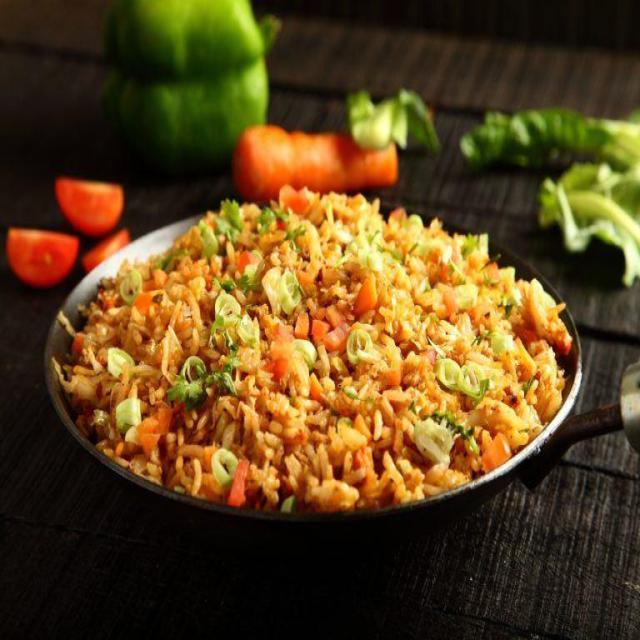Nasi Goreng: (54, 182, 574, 514)
